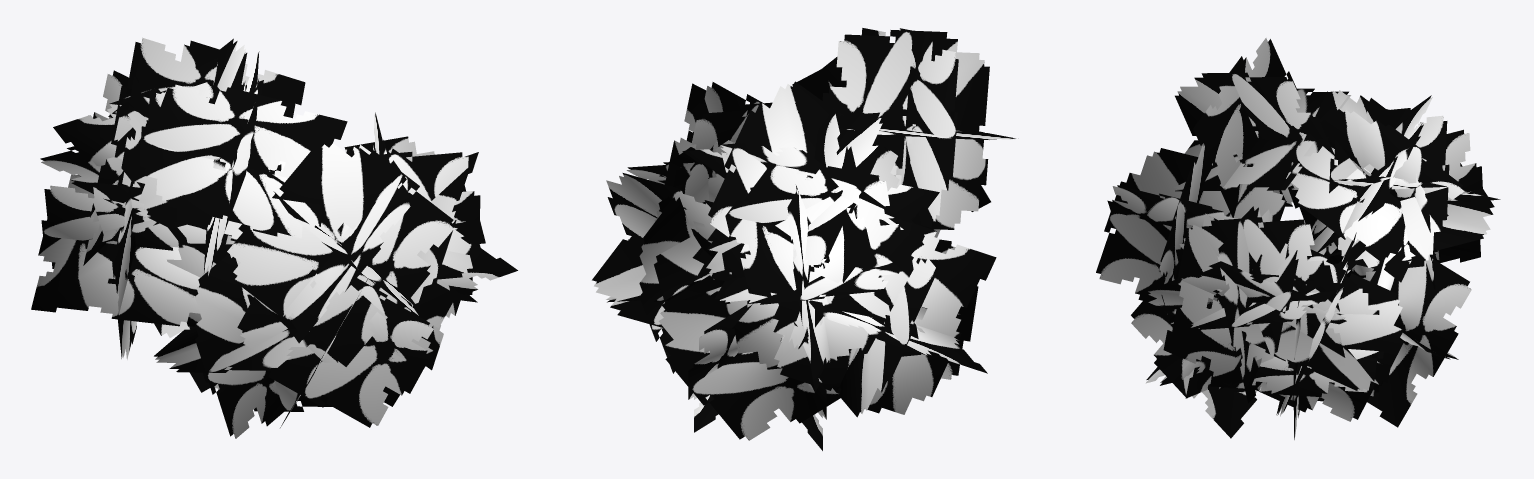
Rendered from SM_Pixel_Bush_B.fbx.
The picture shows the model from 3 angles, left to right: view 1: azimuth 30°, elevation 25°; view 2: azimuth 150°, elevation 25°; view 3: azimuth 270°, elevation 25°; orthographic projection. The views are drawn at different scales.
Visible parts, largest first — view 1: SM_Pixel_Bush_B; view 2: SM_Pixel_Bush_B; view 3: SM_Pixel_Bush_B.
Boxes of the visible parts, bbox=[...] form: SM_Pixel_Bush_B: bbox=[31, 37, 517, 438]; SM_Pixel_Bush_B: bbox=[592, 28, 1015, 450]; SM_Pixel_Bush_B: bbox=[1096, 38, 1500, 439].
Bounding box in the file's own units: 660 × 585 × 668.
